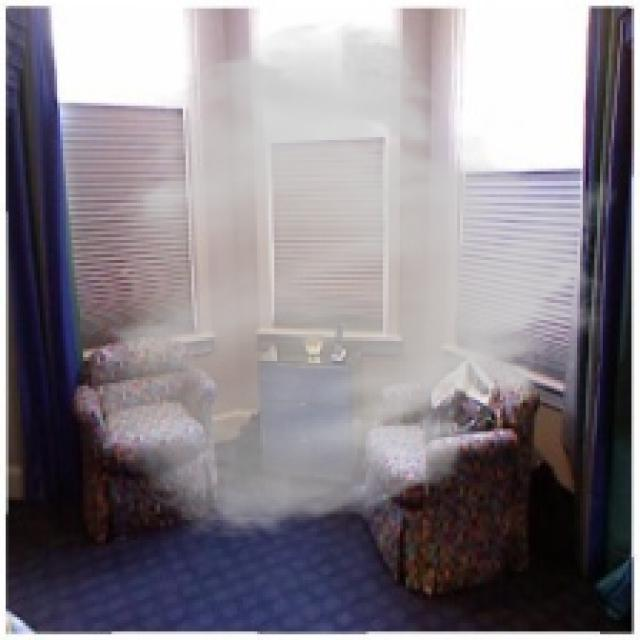Smoke: (85, 17, 620, 543)
